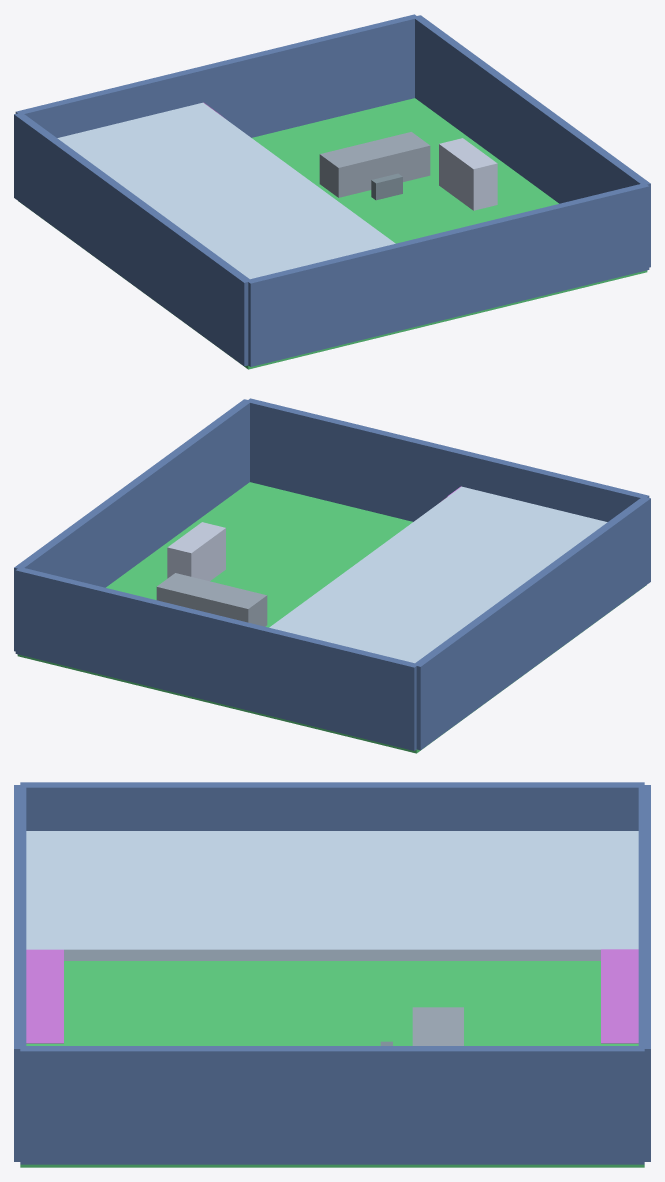
The picture shows the model from 3 angles, top to bottom: view 1: azimuth 30°, elevation 25°; view 2: azimuth 150°, elevation 25°; view 3: azimuth 270°, elevation 25°; orthographic projection. The views are drawn at different scales.
Visible parts, largest first — view 1: Box (×8), Left Wall; view 2: Box (×7), Left Wall; view 3: Box (×8), Left Wall.
Boxes of the visible parts, x1,y1,x2,y2 form: Box (×8): (14,14,650,369); Left Wall: (248,183,649,366); Box (×7): (14,399,650,753); Left Wall: (246,398,649,521); Box (×8): (20,782,650,1167); Left Wall: (14,785,26,1161).
Bounding box in the file's own units: 50.98 × 10.5 × 51.
